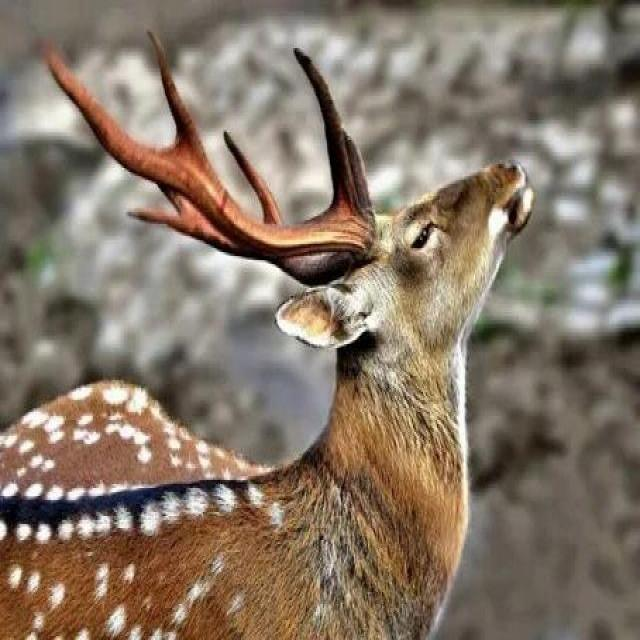deer: (144, 59, 619, 626)
